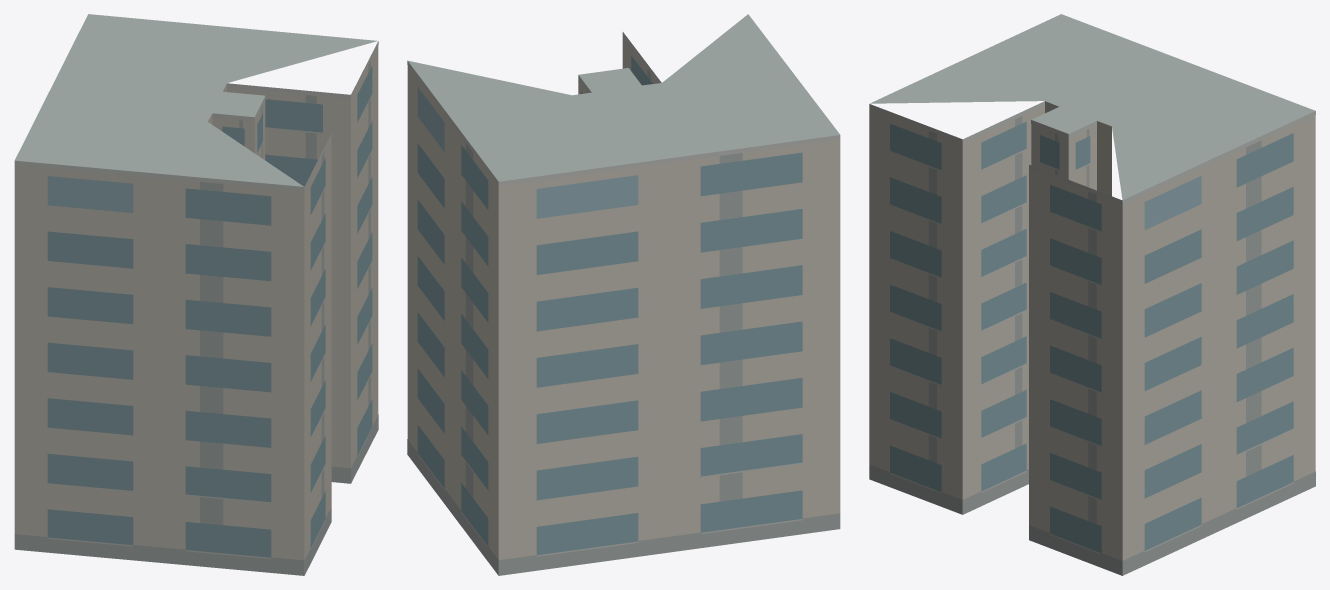
The model's file is survey-upis-32992204.glb.
3 views of the same model, side by side, from view 1: azimuth 30°, elevation 25°; view 2: azimuth 150°, elevation 25°; view 3: azimuth 270°, elevation 25° (orthographic). The views are drawn at different scales.
Visible parts, largest first — view 1: survey-upis-32992204.tmp; view 2: survey-upis-32992204.tmp; view 3: survey-upis-32992204.tmp.
Part boxes in pixels (left/top/right/bottom): survey-upis-32992204.tmp: left=14, top=14, right=378, bottom=575; survey-upis-32992204.tmp: left=407, top=14, right=840, bottom=575; survey-upis-32992204.tmp: left=869, top=14, right=1315, bottom=575.
Bounding box in the file's own units: 22.73 × 21.35 × 23.01.
